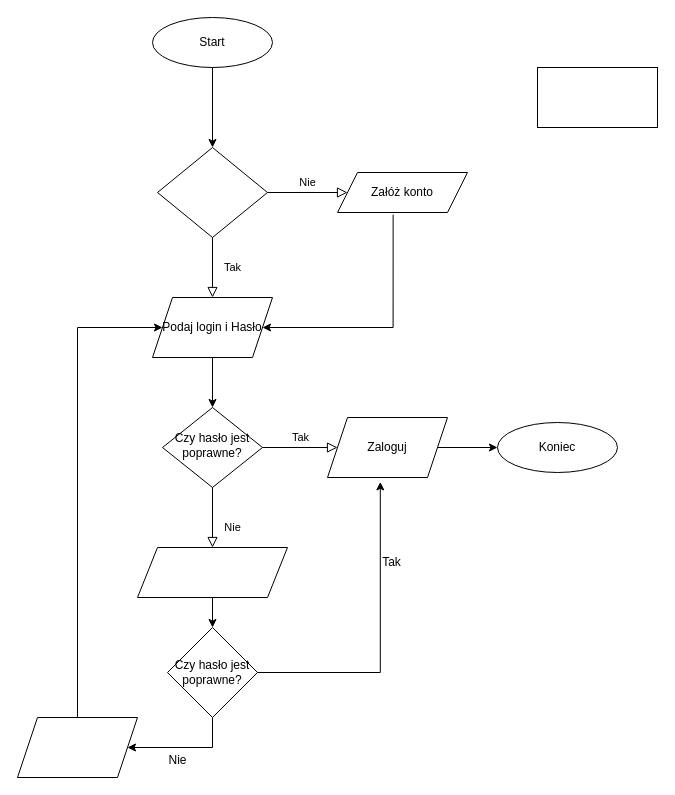
The diagram is 675 pixels wide and 795 high, and some of its shapes have lost their labels. The shapes that lost their labels are listed below. From the top down, each one's centre as x and y in pixels, then its label:
At (x=597, y=97): "rejestracja logowanie zmiana hasła".
At (x=212, y=192): "Czy jesteś zarejestrowany?".
At (x=212, y=572): "Blędne Hasło, spróbuj ponownie".
At (x=77, y=747): "Zresetuj hasło do konta".
